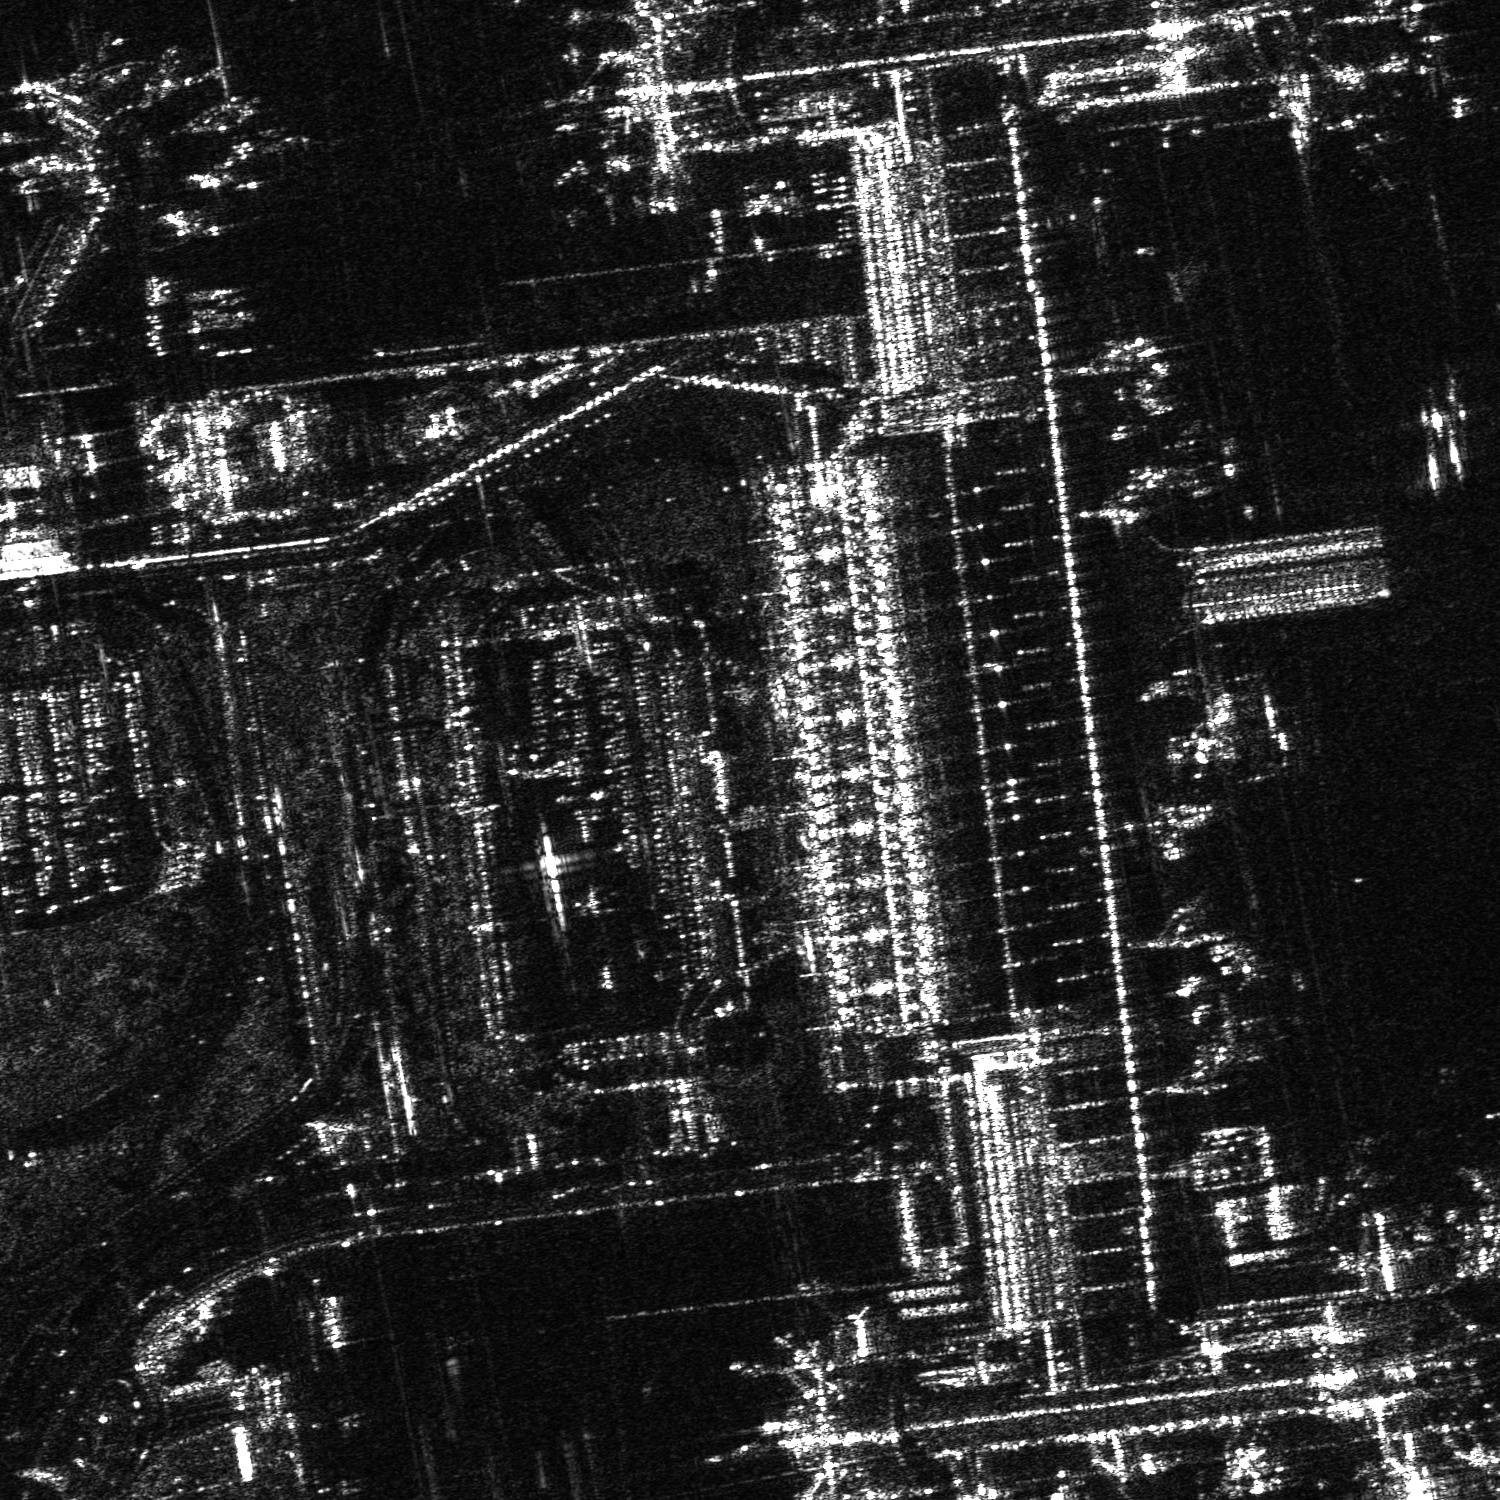Boeing737: (560, 174, 620, 229)
